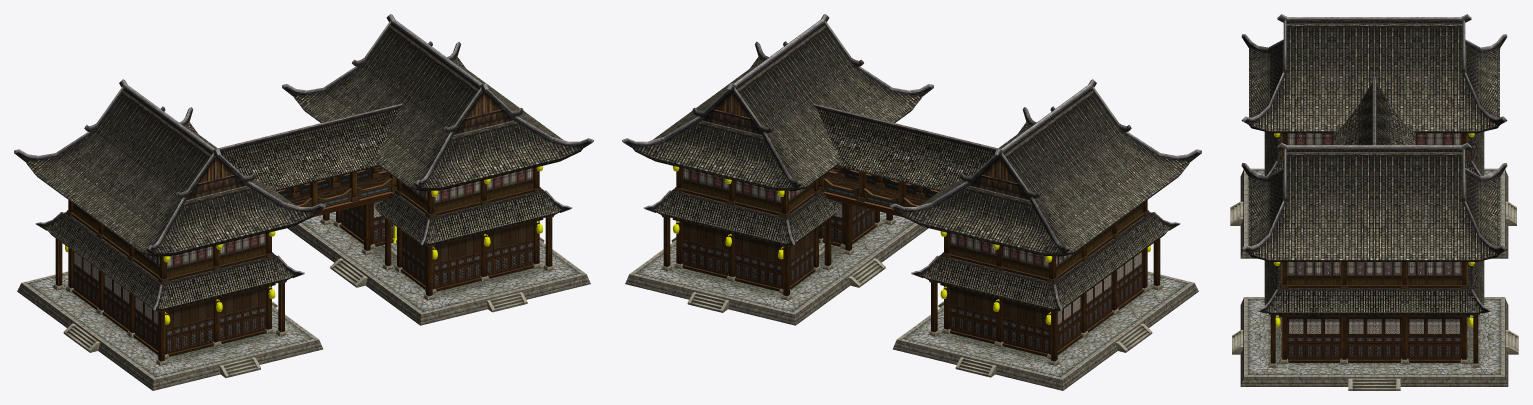
Rendered from b1-009-hotel.glb.
3 renders of one model, left to right at view 1: azimuth 30°, elevation 25°; view 2: azimuth 150°, elevation 25°; view 3: azimuth 270°, elevation 25°, orthographic.
Parts seen in each view (by area): view 1: b1-009-hotel01, b1-009-hotel02, b1-009-hotel03, ob-b1-001-015; view 2: b1-009-hotel01, b1-009-hotel02, b1-009-hotel03, ob-b1-001-015; view 3: b1-009-hotel01, b1-009-hotel02, b1-009-hotel03.
Boxes of the visible parts, box(x1,y1,x2,y2) form: b1-009-hotel01: box(14, 14, 593, 256); b1-009-hotel02: box(35, 103, 571, 353); b1-009-hotel03: box(17, 166, 590, 390); ob-b1-001-015: box(65, 166, 542, 324); b1-009-hotel01: box(622, 14, 1201, 256); b1-009-hotel02: box(644, 103, 1180, 353); b1-009-hotel03: box(625, 166, 1198, 390); ob-b1-001-015: box(673, 166, 1150, 324); b1-009-hotel01: box(1241, 14, 1507, 289); b1-009-hotel02: box(1257, 76, 1491, 359); b1-009-hotel03: box(1230, 133, 1518, 390).
Bounding box in the file's own units: 35.9 × 15.6 × 20.01.
4 materials, 4 textured.
